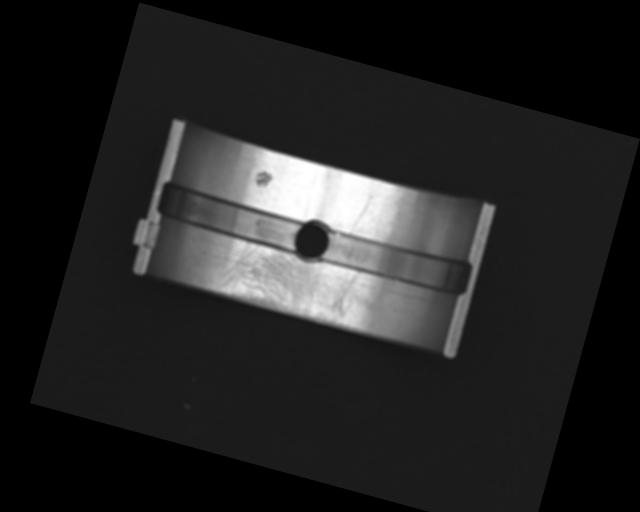bruise: (252, 168, 274, 190)
gap: (320, 225, 472, 299), (155, 182, 304, 253)
hole: (289, 216, 334, 265)
nick: (348, 191, 372, 237)
scratch: (218, 236, 376, 332)
